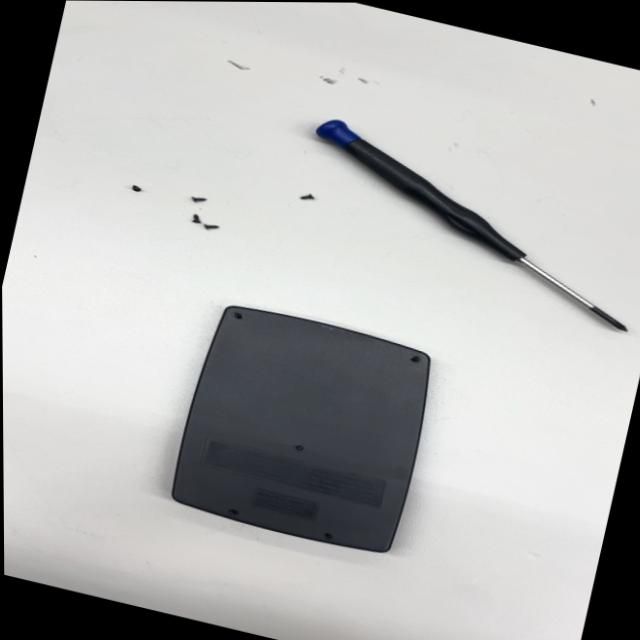back_cover: (156, 293, 447, 565)
screw: (294, 186, 319, 207), (187, 191, 211, 210), (187, 211, 205, 230), (207, 220, 230, 234), (126, 182, 143, 196)
screw_driver: (285, 114, 640, 336)
